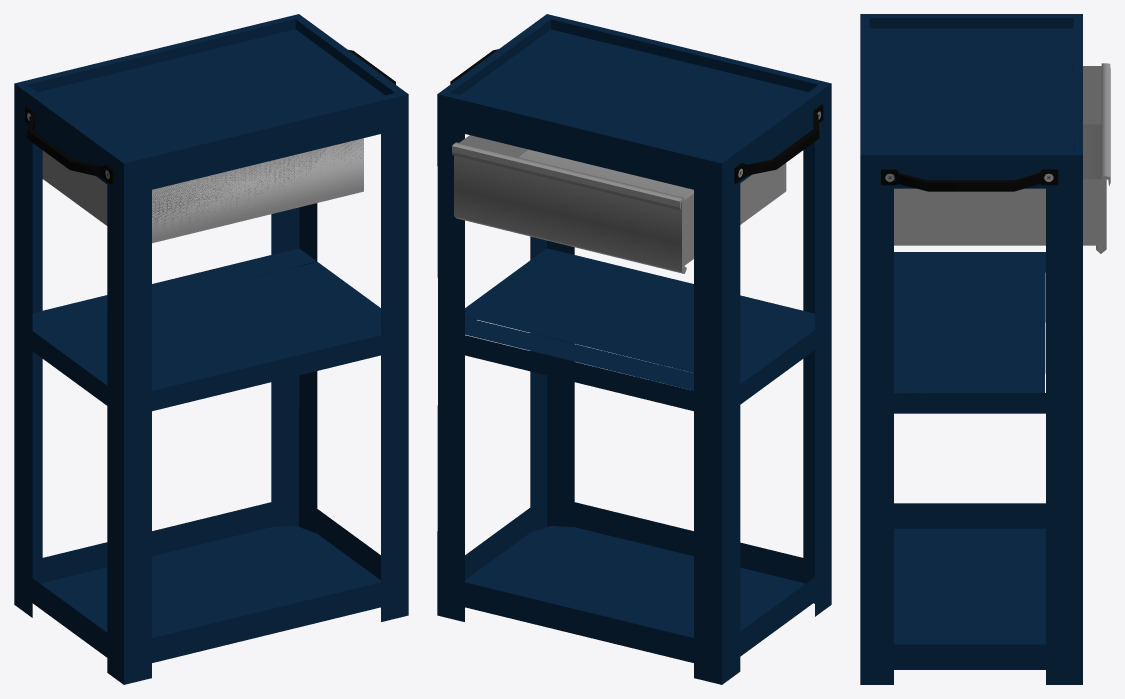
Rendered from Mesa3.FBX.
3 renders of one model, left to right at view 1: azimuth 30°, elevation 25°; view 2: azimuth 150°, elevation 25°; view 3: azimuth 270°, elevation 25°, orthographic.
Parts seen in each view (by area): view 1: Box001, Box003, Box002; view 2: Box001, Box003, Box002; view 3: Box001, Box003, Box002.
Boxes of the visible parts, x1=… form: Box001: x1=14, y1=14, x2=408, y2=684; Box003: x1=42, y1=138, x2=363, y2=243; Box002: x1=25, y1=49, x2=395, y2=185; Box001: x1=437, y1=14, x2=831, y2=684; Box003: x1=452, y1=135, x2=786, y2=273; Box002: x1=450, y1=49, x2=823, y2=183; Box001: x1=860, y1=14, x2=1082, y2=684; Box003: x1=894, y1=63, x2=1110, y2=253; Box002: x1=881, y1=169, x2=1058, y2=191.
Size of the model in its own units: 13.54 by 20.67 by 8.84.
Materials: 3 (3 with a texture image).
